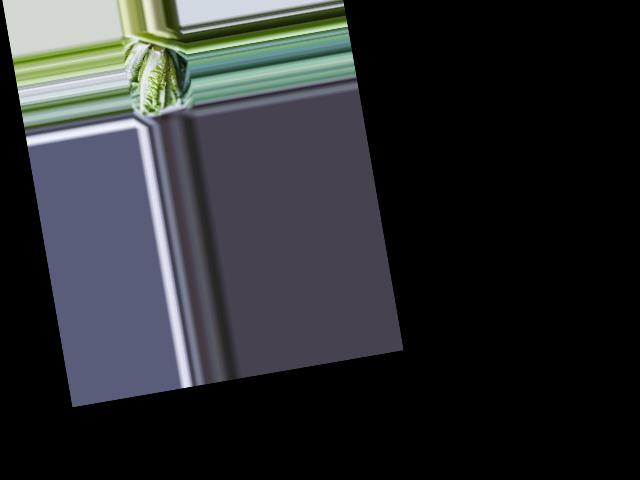lettuce: (128, 42, 183, 117)
